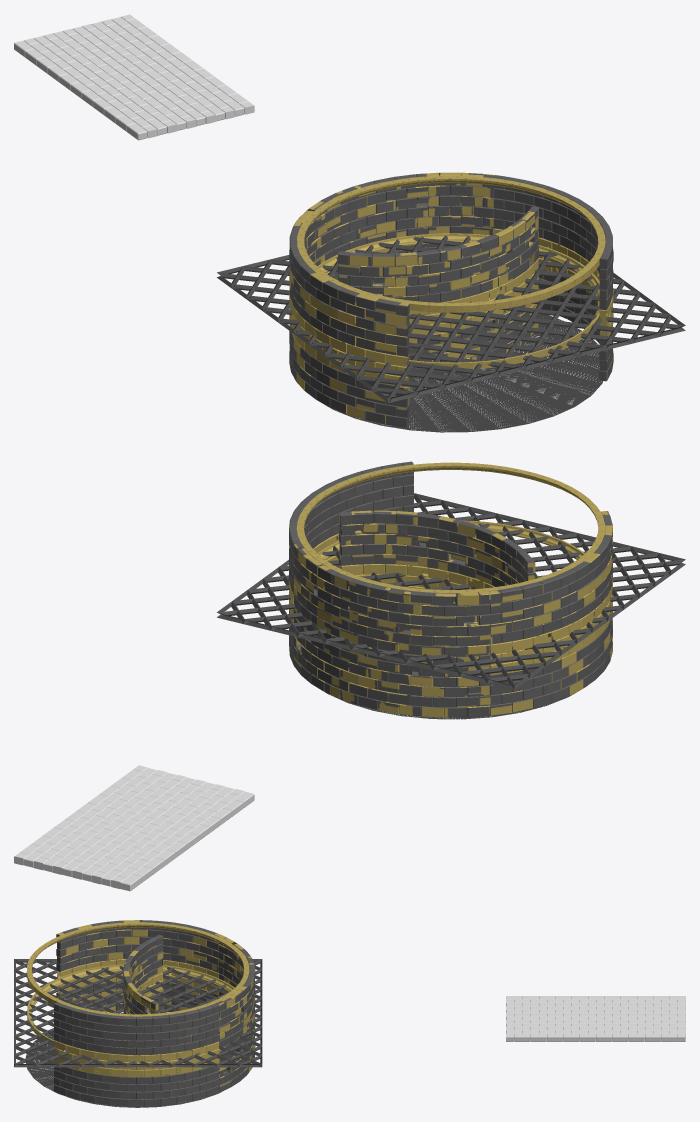
Rendered from Round wall.fbx.
3 views of the same model, one above another, from view 1: azimuth 30°, elevation 25°; view 2: azimuth 150°, elevation 25°; view 3: azimuth 270°, elevation 25° (orthographic). The views are drawn at different scales.
Visible parts, largest first — view 1: wall.003, Plane.001, Cube.004, wall.001, Circle, Cube.078, Cube.047; view 2: wall.003, Cube.004, Plane.001, wall.001, Cube.078, Cube.047; view 3: wall.003, Plane.001, Cube.004, wall.001, Cube.078, Cube.047, Circle.
Boxes of the visible parts, x1=… form: wall.003: x1=289, y1=172, x2=613, y2=427; Plane.001: x1=217, y1=235, x2=685, y2=402; Cube.004: x1=14, y1=14, x2=254, y2=140; wall.001: x1=338, y1=206, x2=538, y2=377; Circle: x1=319, y1=314, x2=603, y2=432; Cube.078: x1=297, y1=175, x2=605, y2=312; Cube.047: x1=314, y1=233, x2=599, y2=369; wall.003: x1=289, y1=461, x2=612, y2=717; Cube.004: x1=14, y1=765, x2=254, y2=891; Plane.001: x1=217, y1=493, x2=685, y2=689; wall.001: x1=339, y1=510, x2=535, y2=589; Cube.078: x1=296, y1=462, x2=605, y2=596; Cube.047: x1=317, y1=520, x2=595, y2=609; wall.003: x1=54, y1=920, x2=255, y2=1106; Plane.001: x1=14, y1=959, x2=262, y2=1067; Cube.004: x1=506, y1=996, x2=685, y2=1041; wall.001: x1=123, y1=934, x2=163, y2=1014; Cube.078: x1=26, y1=922, x2=249, y2=1016; Cube.047: x1=27, y1=964, x2=234, y2=1042; Circle: x1=25, y1=1013, x2=234, y2=1107.
Size of the model in its own units: 2768 by 1119 by 7492.
Materials: 5 (5 with a texture image).
